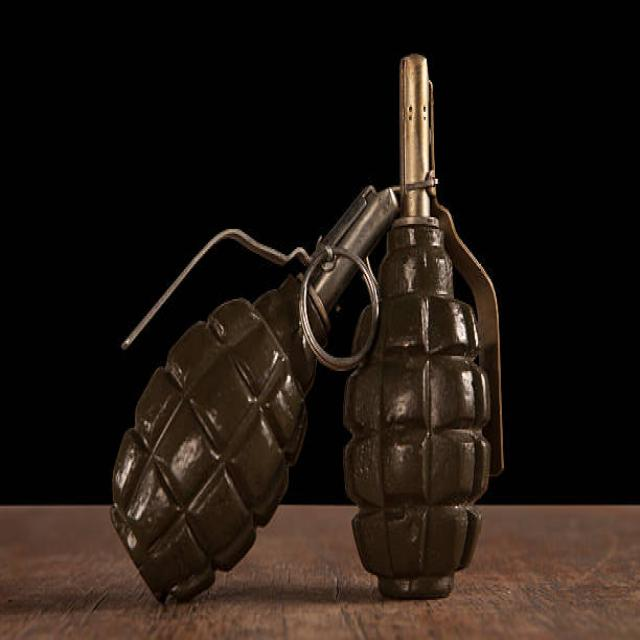grenade: (101, 171, 402, 616), (335, 41, 518, 615)
